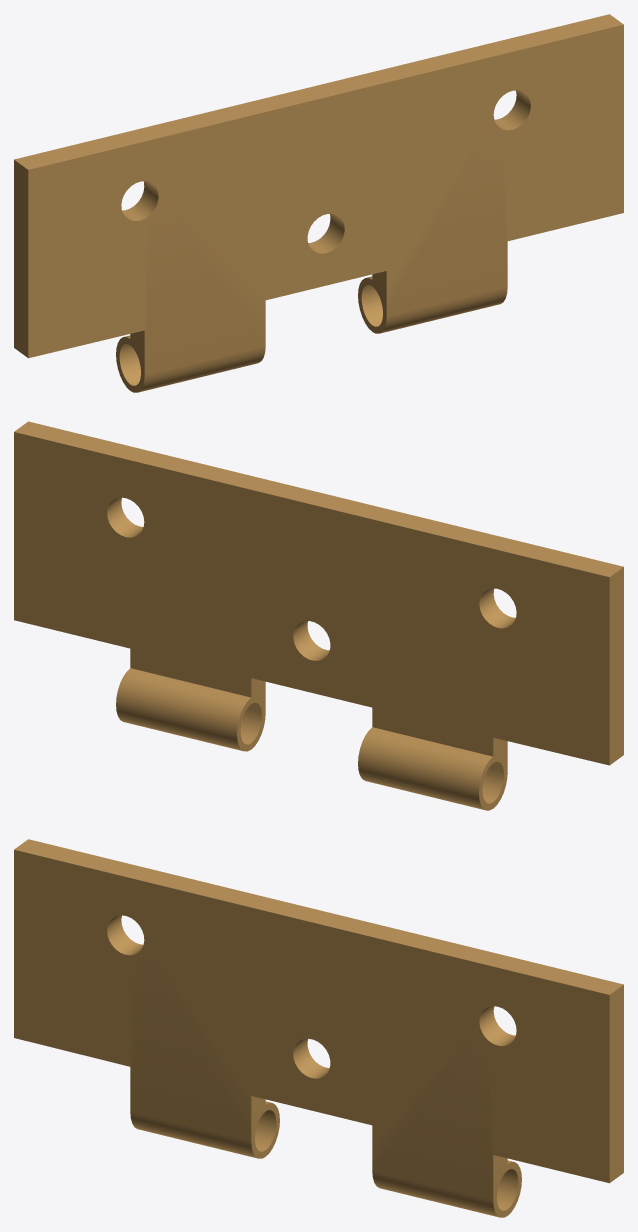
The model's file is original-25.obj.
3 renders of one model, top to bottom at view 1: azimuth 30°, elevation 25°; view 2: azimuth 150°, elevation 25°; view 3: azimuth 330°, elevation 25°, orthographic.
Visible parts, largest first — view 1: Group1/mesh30/mesh30-geometry#mesh30-geometry; view 2: Group1/mesh30/mesh30-geometry#mesh30-geometry; view 3: Group1/mesh30/mesh30-geometry#mesh30-geometry.
Part boxes in pixels (box(x1,y1,x2,y2)): Group1/mesh30/mesh30-geometry#mesh30-geometry: box(14, 14, 623, 392); Group1/mesh30/mesh30-geometry#mesh30-geometry: box(14, 421, 623, 810); Group1/mesh30/mesh30-geometry#mesh30-geometry: box(14, 839, 623, 1217).
Bounding box in the file's own units: 0.0874 × 0.0364 × 0.0073.
